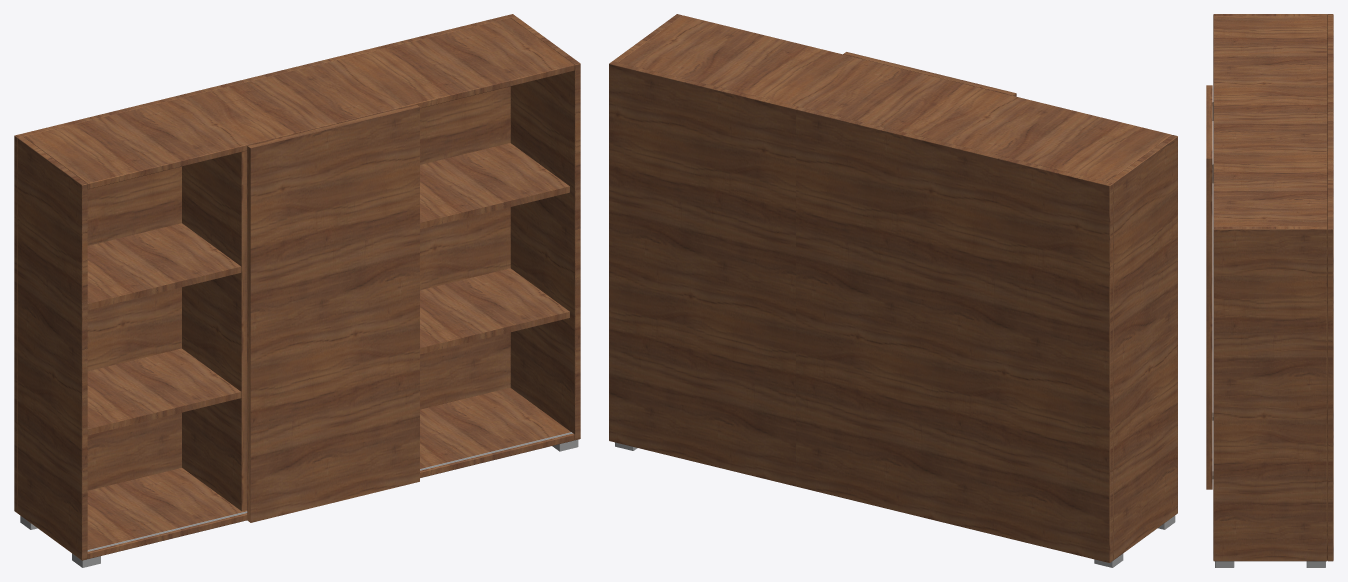
Rendered from base_cabinet_one_float_door_160x40x115_FINAL.fbx.
3 views of the same model, side by side, from view 1: azimuth 30°, elevation 25°; view 2: azimuth 150°, elevation 25°; view 3: azimuth 270°, elevation 25° (orthographic). The views are drawn at different scales.
Visible parts, largest first — view 1: M70.I144, metal; view 2: M70.I144; view 3: M70.I144, plastik.
Boxes of the visible parts, x1,y1,x2,y2 form: M70.I144: [14, 14, 580, 560]; metal: [87, 432, 573, 551]; M70.I144: [609, 14, 1177, 562]; M70.I144: [1206, 14, 1333, 561]; plastik: [1215, 561, 1325, 567].
Bounding box in the file's own units: 160 × 118 × 39.9.
